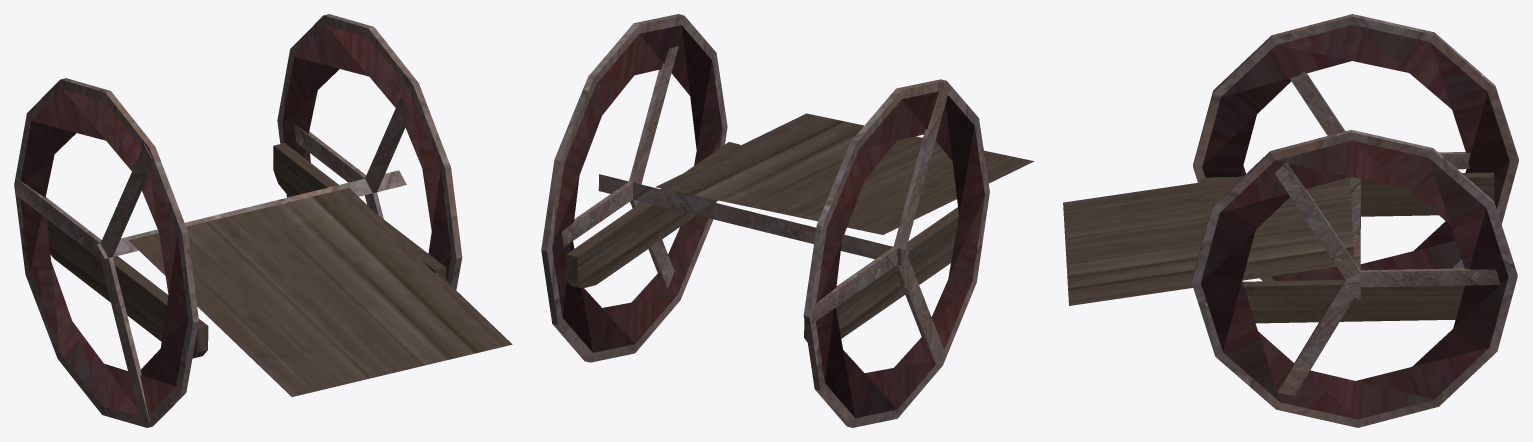
File: love-death-mine-wheel-art.glb
The picture shows the model from 3 angles, left to right: view 1: azimuth 30°, elevation 25°; view 2: azimuth 150°, elevation 25°; view 3: azimuth 270°, elevation 25°; orthographic projection. The views are drawn at different scales.
Parts seen in each view (by area): view 1: LoveDeath_MineWheel_Art; view 2: LoveDeath_MineWheel_Art; view 3: LoveDeath_MineWheel_Art.
Boxes of the visible parts, box(x1,y1,x2,y2) form: LoveDeath_MineWheel_Art: box(14, 14, 512, 427); LoveDeath_MineWheel_Art: box(541, 14, 1034, 427); LoveDeath_MineWheel_Art: box(1063, 14, 1518, 427).
Bounding box in the file's own units: 5.37 × 5.54 × 7.73.
Materials: 1 (1 with a texture image).
